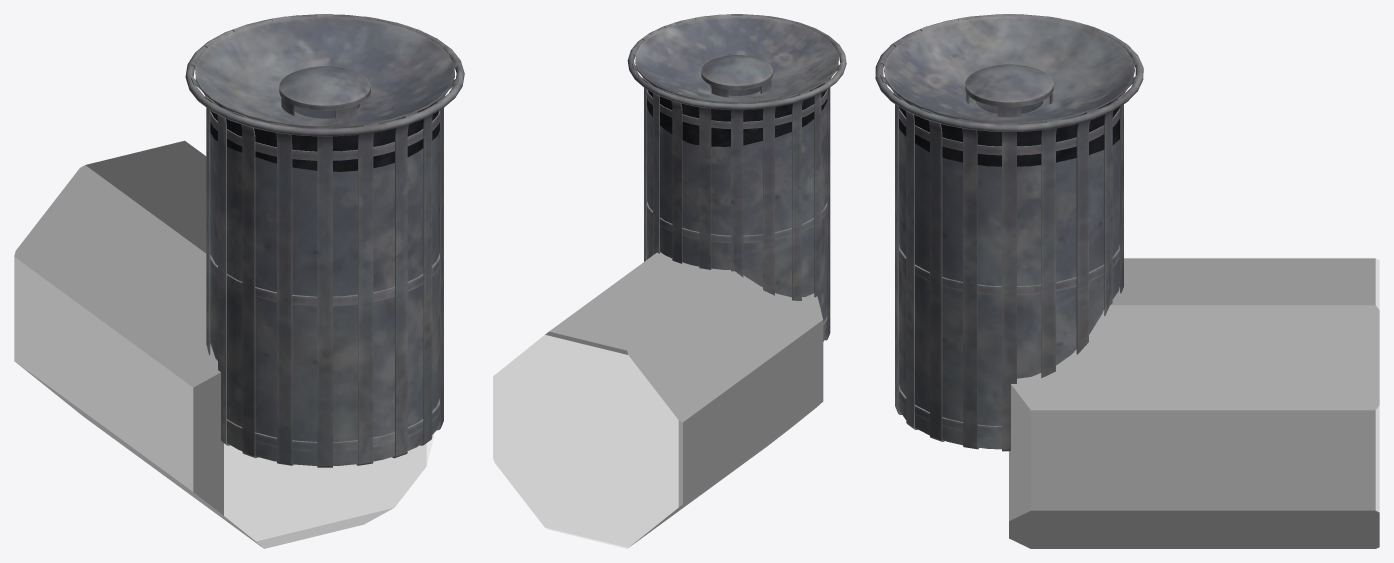
The model's file is SM_Dustbin_03.fbx.
3 views of the same model, side by side, from view 1: azimuth 30°, elevation 25°; view 2: azimuth 150°, elevation 25°; view 3: azimuth 270°, elevation 25° (orthographic). The views are drawn at different scales.
Visible parts, largest first — view 1: SM_Dustbin_03_LOD0, SM_Dustbin_03_ConvexHulls; view 2: SM_Dustbin_03_ConvexHulls, SM_Dustbin_03_LOD0; view 3: SM_Dustbin_03_ConvexHulls, SM_Dustbin_03_LOD0.
Part boxes in pixels (x1,y1,x2,y2): SM_Dustbin_03_LOD0: (185, 14, 464, 467); SM_Dustbin_03_ConvexHulls: (14, 140, 434, 548); SM_Dustbin_03_ConvexHulls: (493, 252, 823, 548); SM_Dustbin_03_LOD0: (627, 14, 846, 341); SM_Dustbin_03_ConvexHulls: (1009, 258, 1379, 548); SM_Dustbin_03_LOD0: (875, 14, 1143, 451).
Size of the model in its own units: 60.88 by 114 by 114.
